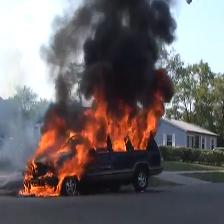fire: (44, 121, 154, 152), (23, 154, 80, 192)
smoke: (70, 0, 175, 118)
